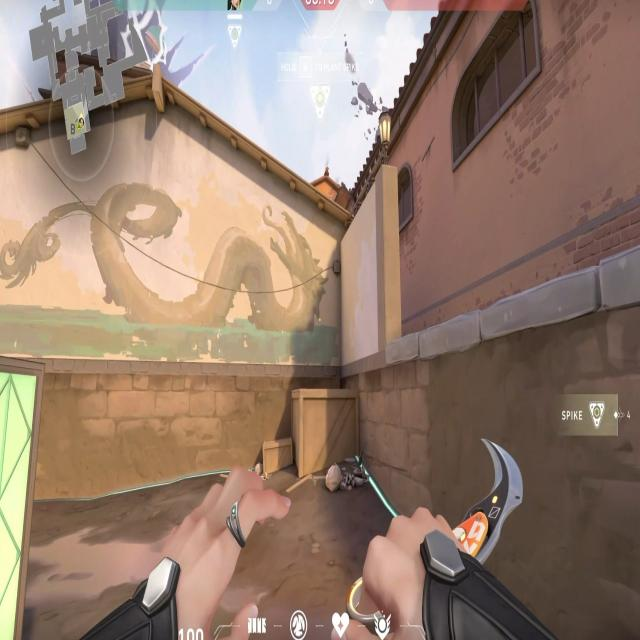Throwables: (442, 0, 561, 187)
